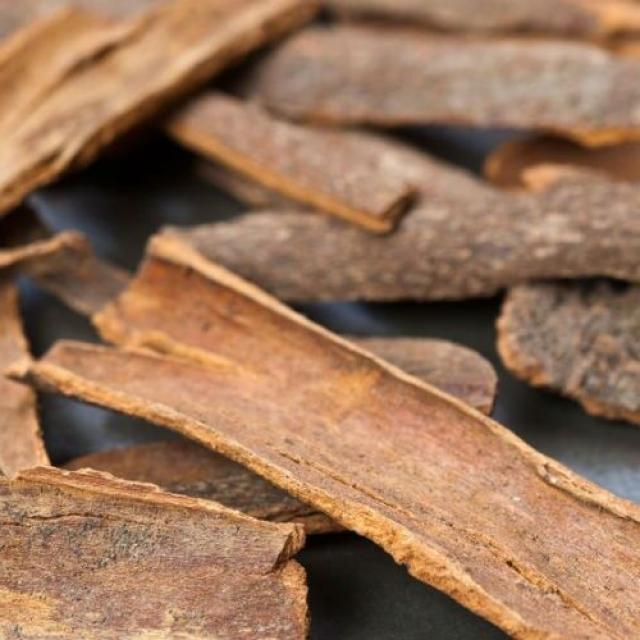Cinnamon: (69, 235, 640, 639), (11, 341, 640, 639), (0, 0, 318, 214), (171, 184, 640, 301), (0, 466, 305, 640), (241, 25, 640, 146), (168, 92, 416, 234), (496, 280, 640, 424)
